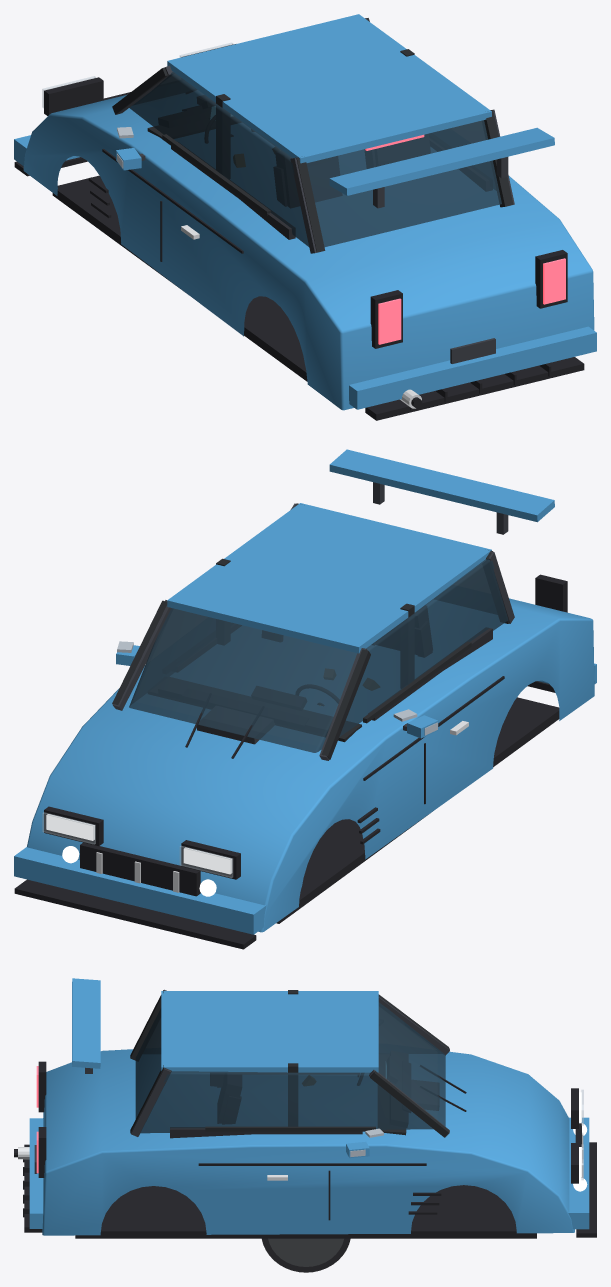
File: michi.glb
3 renders of one model, top to bottom at view 1: azimuth 30°, elevation 25°; view 2: azimuth 150°, elevation 25°; view 3: azimuth 270°, elevation 25°, orthographic. The views are drawn at different scales.
Visible parts, largest first — view 1: body_shell, cabin_roof, cabin_glass, rear_bumper, undertray, spoiler_wing, rear_diffuser, seat_driver_back, head_housing_L, pillar_b_L, brake_light_L, brake_light_R (+13 smaller); view 2: body_shell, cabin_glass, cabin_roof, front_bumper, spoiler_wing, undertray, front_splitter, grille, hood_scoop, dash_cowl, pillar_a_L, head_lens_L (+13 smaller); view 3: body_shell, cabin_glass, cabin_roof, undertray, spoiler_wing, wheel_fl_sidewall, front_bumper, rear_bumper, door_card_R, window_frame_R, pillar_a_R, front_splitter (+12 smaller).
Boxes of the visible parts, box(x1,y1,x2,y2) form: body_shell: box(23, 90, 594, 410); cabin_roof: box(167, 14, 491, 163); cabin_glass: box(129, 72, 501, 246); rear_bumper: box(349, 326, 596, 409); undertray: box(52, 175, 307, 381); spoiler_wing: box(329, 127, 554, 195); rear_diffuser: box(365, 357, 584, 420); seat_driver_back: box(276, 151, 341, 207); head_housing_L: box(44, 77, 103, 115); pillar_b_L: box(216, 94, 230, 178); brake_light_L: box(378, 298, 401, 344); brake_light_R: box(543, 258, 565, 304); body_shell: box(27, 598, 594, 932); cabin_glass: box(129, 559, 508, 752); cabin_roof: box(167, 503, 491, 653); front_bumper: box(14, 847, 266, 934); spoiler_wing: box(329, 449, 554, 522); undertray: box(276, 697, 559, 923); front_splitter: box(14, 879, 256, 949); grille: box(80, 842, 200, 896); hood_scoop: box(197, 706, 274, 744); dash_cowl: box(158, 677, 332, 734); pillar_a_L: box(321, 649, 370, 759); head_lens_L: box(179, 845, 233, 877); body_shell: box(42, 1049, 574, 1235); cabin_glass: box(135, 1002, 445, 1133); cabin_roof: box(161, 991, 378, 1072); undertray: box(75, 1185, 536, 1238); spoiler_wing: box(72, 978, 100, 1068); wheel_fl_sidewall: box(268, 1238, 343, 1266); front_bumper: box(568, 1117, 589, 1229); rear_bumper: box(29, 1118, 43, 1228); door_card_R: box(170, 1127, 362, 1138); window_frame_R: box(205, 1126, 375, 1131); pillar_a_R: box(370, 1071, 448, 1137); front_splitter: box(576, 1142, 596, 1237).
Bounding box in the file's own units: 2.3 × 2.11 × 4.51.
